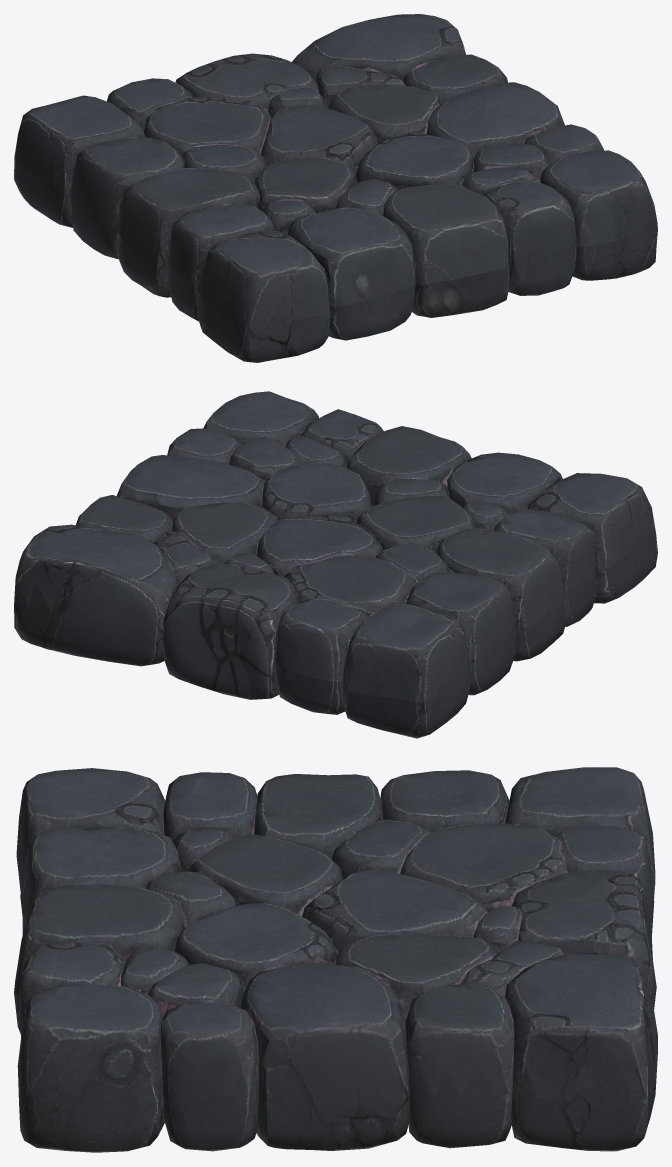
File: floor_tile_controlled.glb
3 renders of one model, top to bottom at view 1: azimuth 30°, elevation 25°; view 2: azimuth 150°, elevation 25°; view 3: azimuth 270°, elevation 25°, orthographic. The views are drawn at different scales.
Bounding box in the file's own units: 1 × 0.2256 × 0.998.
1 material, 1 textured.
